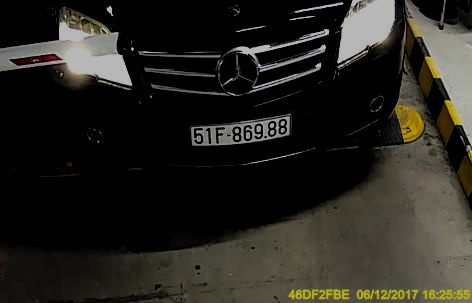plate: (188, 111, 292, 150)
